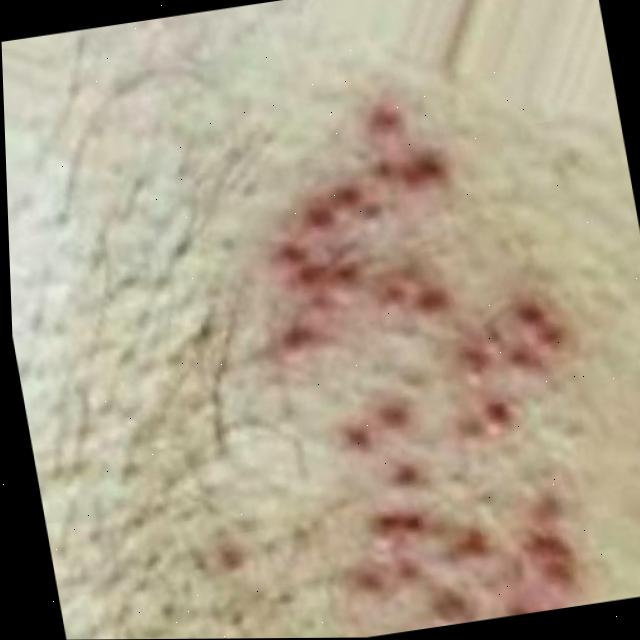Shingles: (233, 90, 615, 638)
